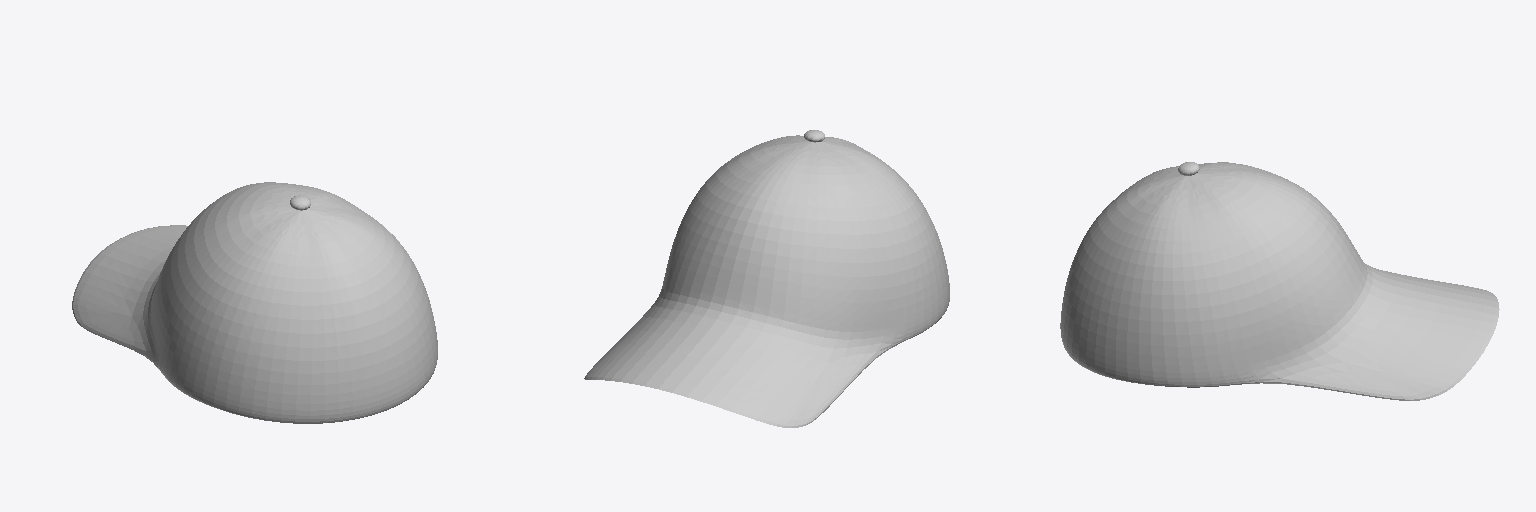
The model's file is shirt.obj.
3 views of the same model, side by side, from view 1: azimuth 30°, elevation 25°; view 2: azimuth 150°, elevation 25°; view 3: azimuth 270°, elevation 25° (orthographic).
Parts seen in each view (by area): view 1: atras, frente, vicera, cono; view 2: frente, vicera, atras, cono; view 3: frente, atras, vicera, cono.
Boxes of the visible parts, x1,y1,x2,y2 form: atras: [169, 198, 437, 423]; frente: [143, 182, 381, 386]; vicera: [72, 225, 187, 365]; cono: [274, 196, 329, 226]; frente: [655, 130, 928, 357]; vicera: [584, 301, 903, 427]; atras: [752, 130, 949, 331]; cono: [786, 131, 840, 152]; frente: [1179, 162, 1381, 387]; atras: [1060, 162, 1211, 386]; vicera: [1242, 267, 1499, 400]; cono: [1161, 162, 1216, 191].
Size of the model in its own units: 18.91 by 13.62 by 29.54.